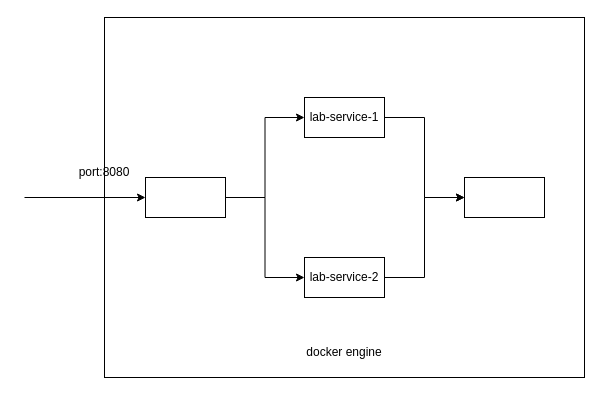
Some shapes in this 602 by 395 pixel diagram are drawn without their labels. Each missing label, with the centre of its shape:
"nginx" belongs at (185,197).
"postgres" belongs at (504,197).
